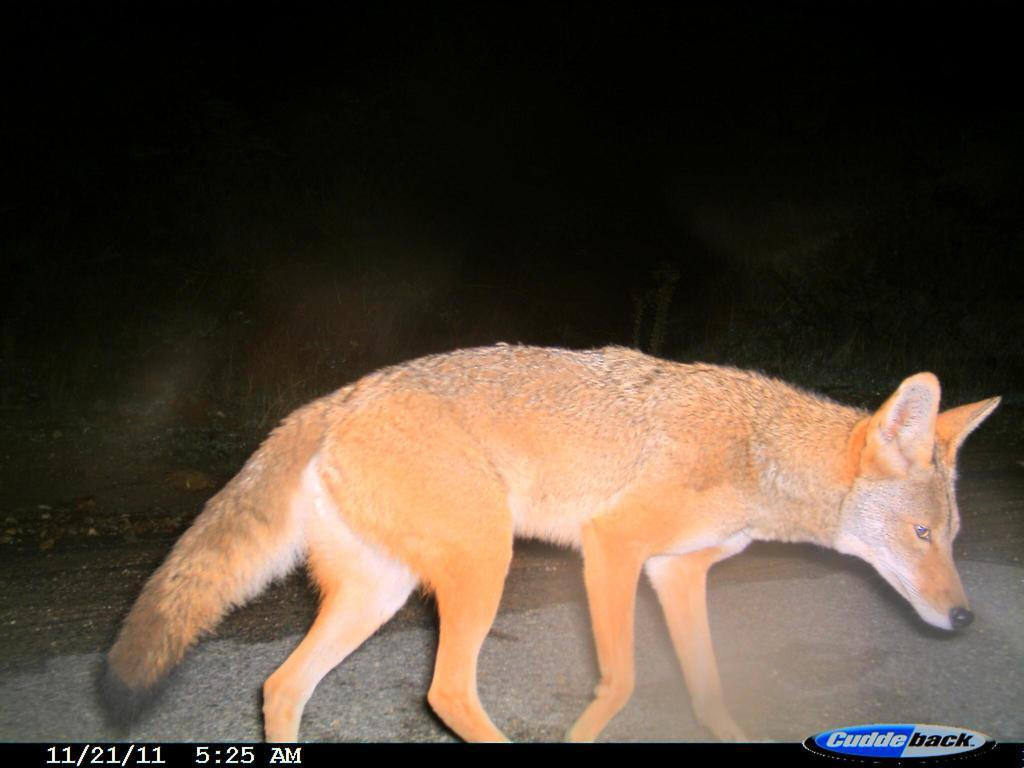coyote: (94, 332, 1010, 739)
